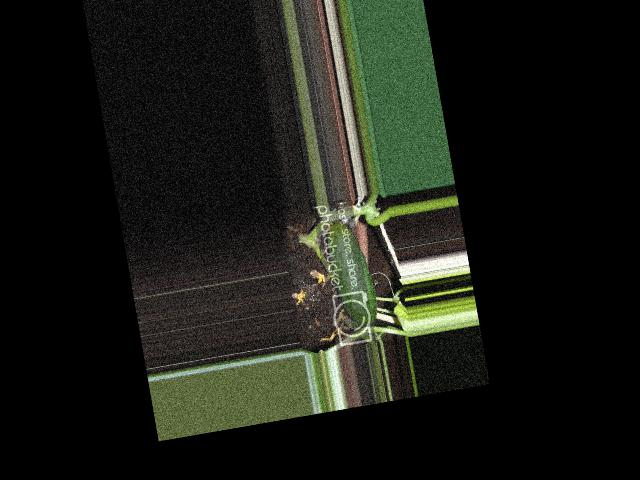cucumber: (323, 218, 380, 330)
